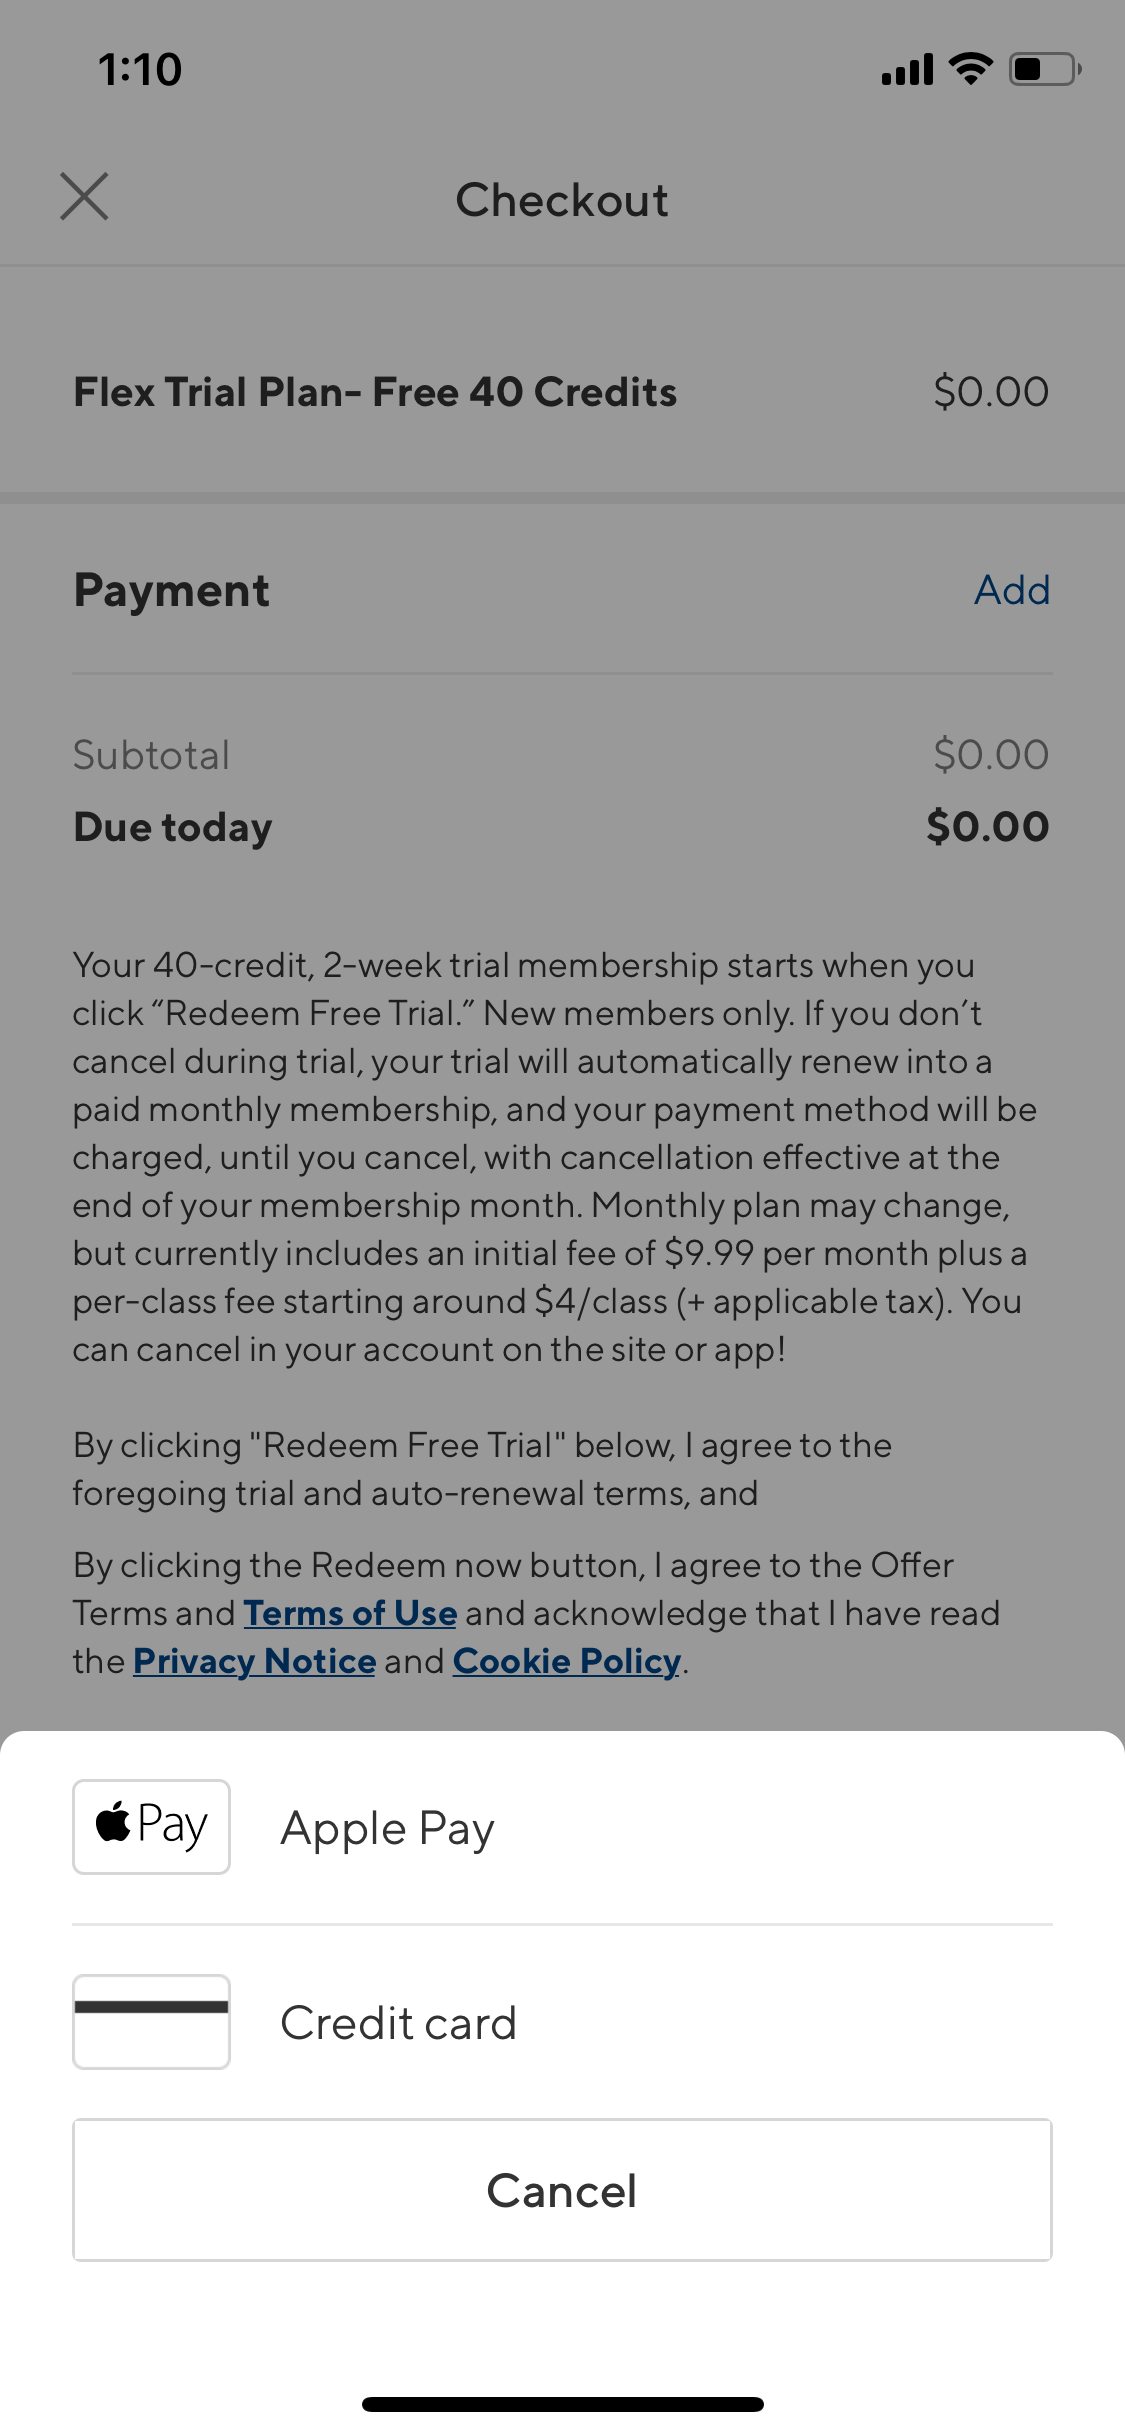Buttons: (56, 2107, 1072, 2274), (921, 522, 1088, 640), (26, 130, 132, 245)
